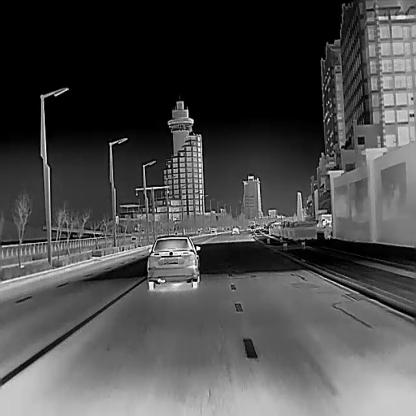car: (147, 233, 200, 288), (231, 226, 239, 235)
